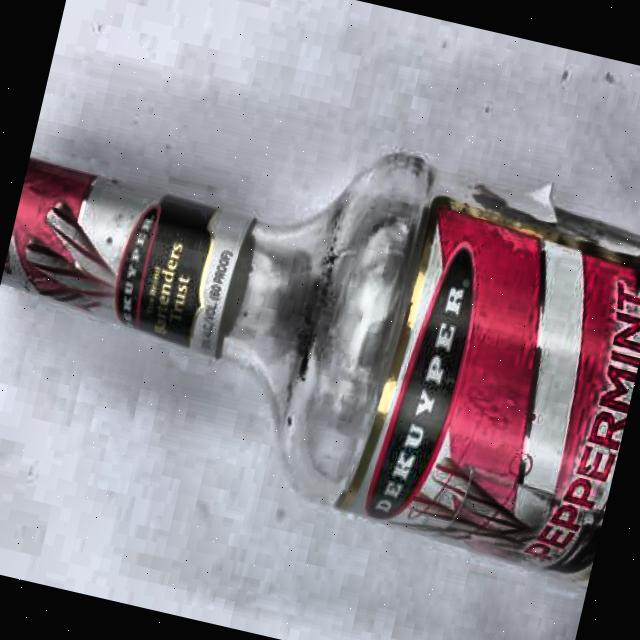glass: (0, 72, 640, 579)
